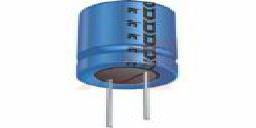Electrolytic-Capacitor: (69, 4, 189, 128)
